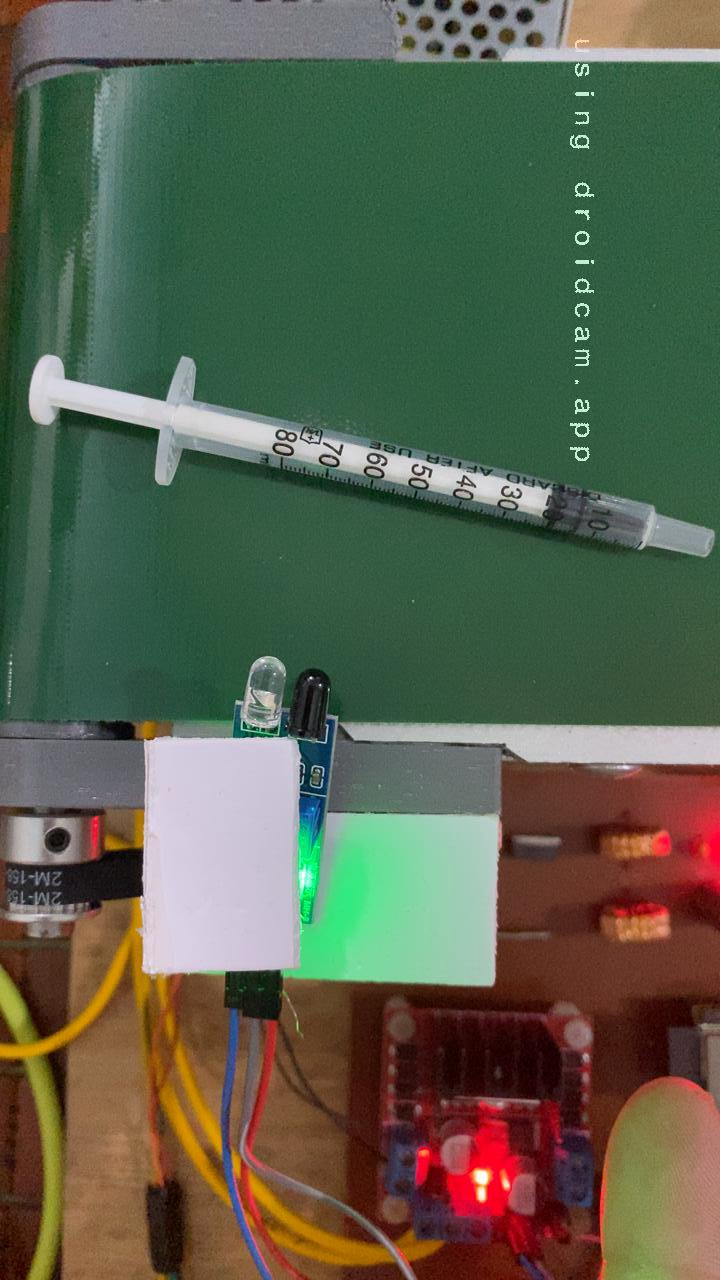syringe: (21, 347, 720, 565)
